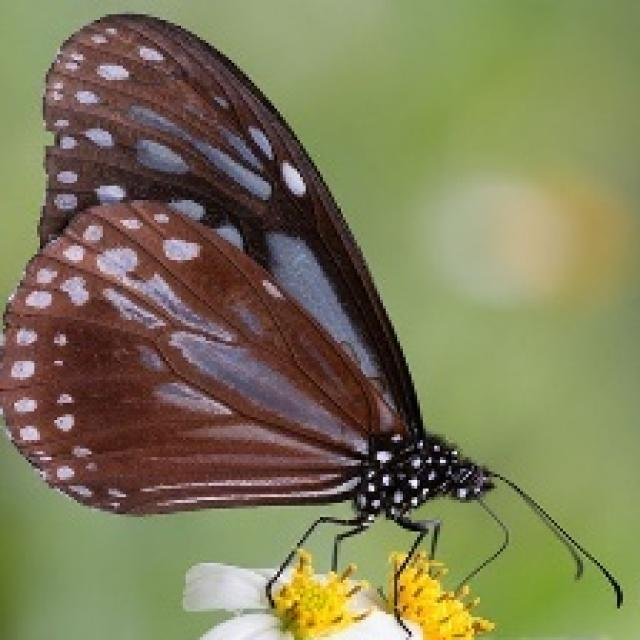butterfly: (0, 9, 623, 632)
